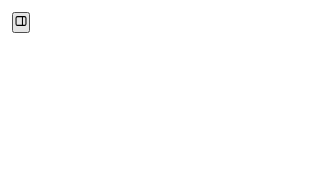
Test: shows no kind badge, and read-only attribution plus the promote action when expanded
The image size is (332, 172).
Check: the text "Created by " is not shown
Check: the button "Make this a project" is not shown
Click the button with test id "properties-toggle".
click(21, 22)  # box x1=12 y1=12 x2=30 y2=33
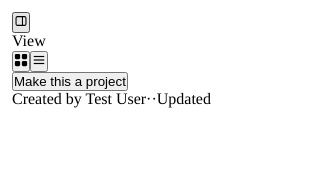
Check: the text "Created by Test User" is shown, box x1=12 y1=91 x2=146 y2=108
Check: the button "Make this a project" is shown, box x1=12 y1=72 x2=128 y2=91
